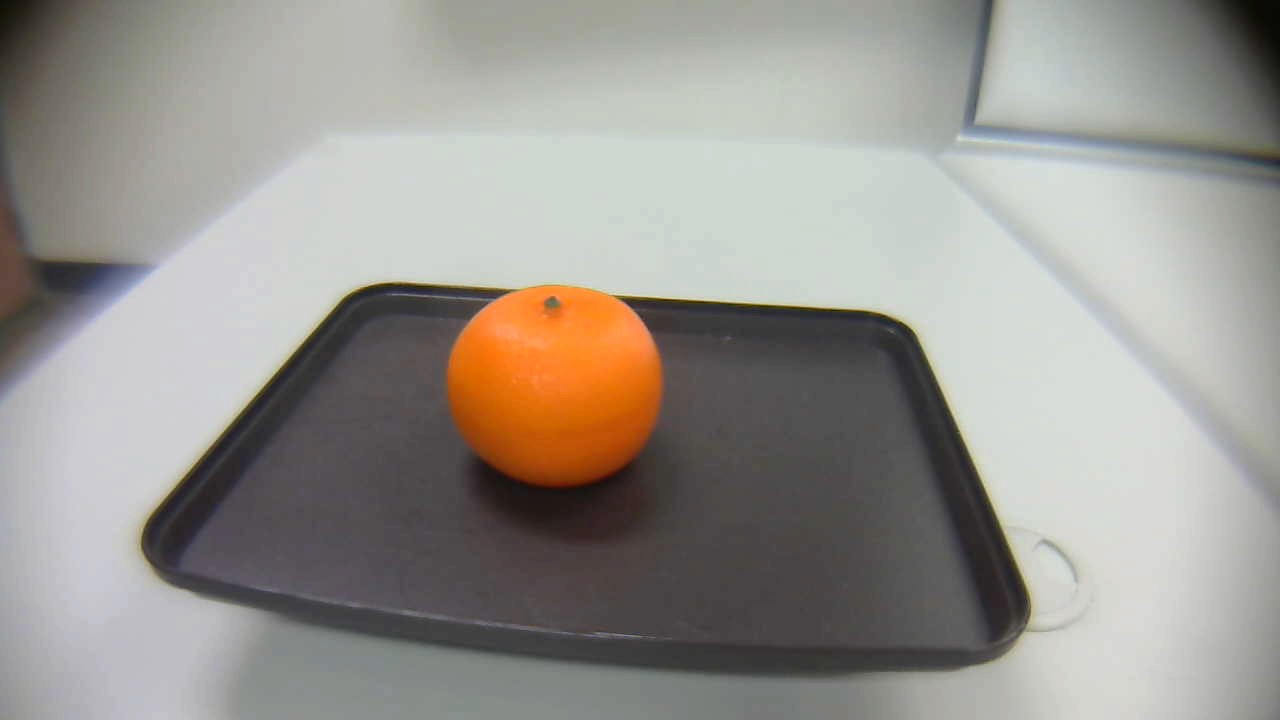orange: (441, 277, 672, 493)
